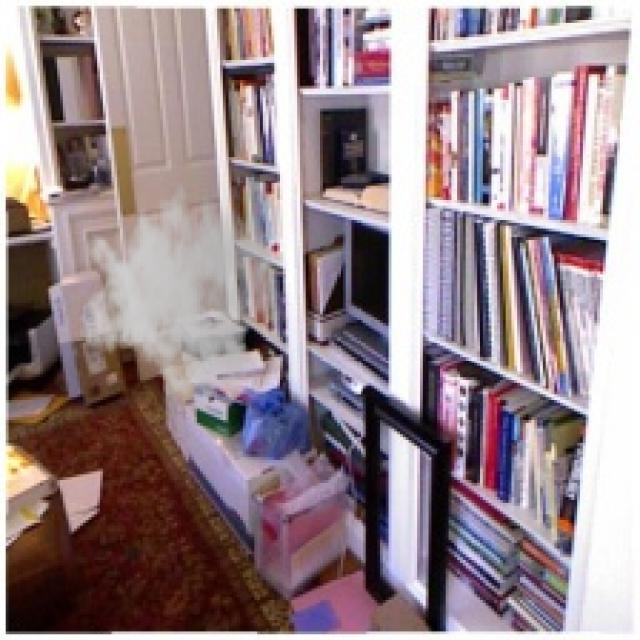Smoke: (77, 168, 277, 408)
